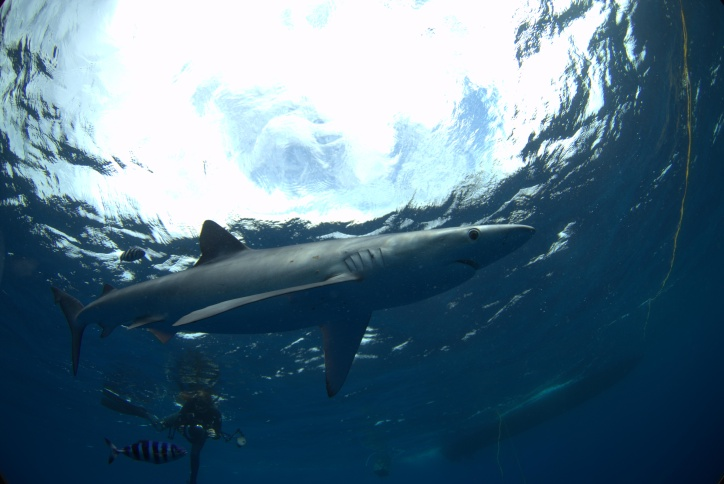Azul: (42, 200, 554, 397)
